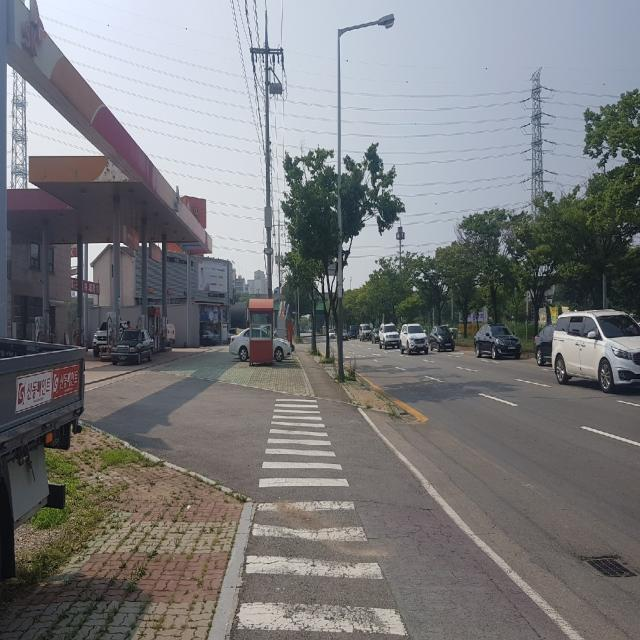횡단보도: (236, 398, 410, 640)
